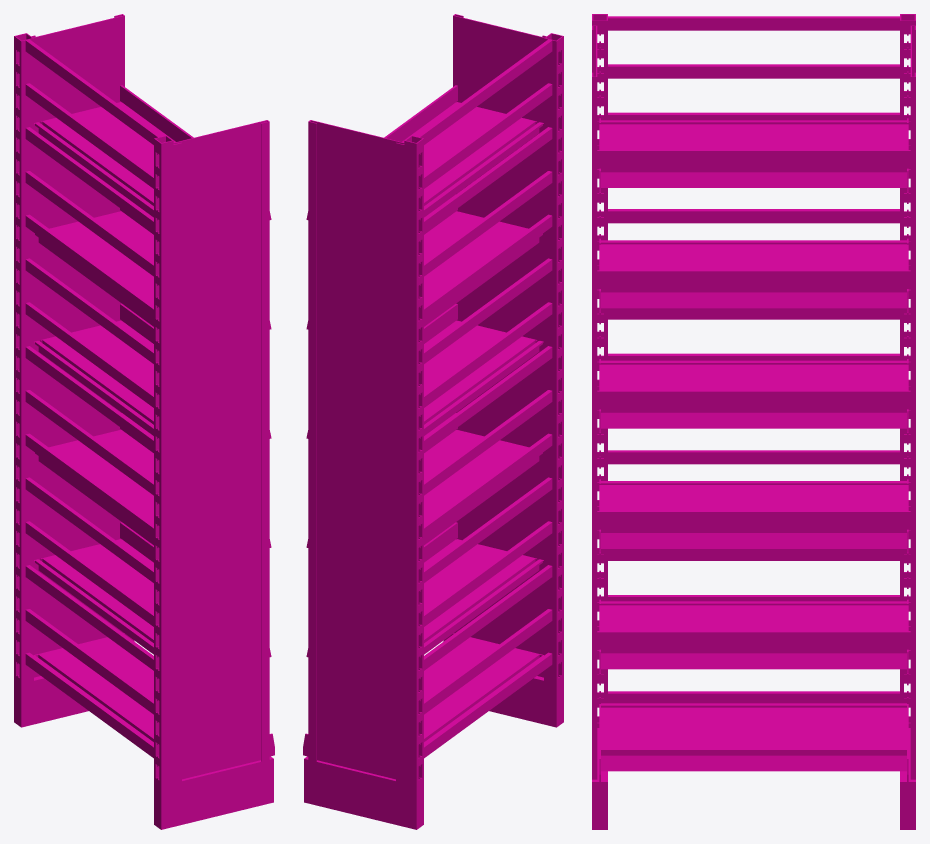
Rendered from TSL-0032-014 A01 LADDER RACK KIT 1610X580X230 LAD1610580.glb.
3 views of the same model, side by side, from view 1: azimuth 30°, elevation 25°; view 2: azimuth 150°, elevation 25°; view 3: azimuth 270°, elevation 25° (orthographic). The views are drawn at different scales.
Parts seen in each view (by area): view 1: 3DGeom-16 (×2), 3DGeom-3 (×6), 3DGeom-1 (×15), 3DGeom-13 (×2), 3DGeom-14 (×2), 3DGeom-25 (×3); view 2: 3DGeom-16 (×2), 3DGeom-3 (×6), 3DGeom-1 (×15), 3DGeom-13 (×2), 3DGeom-14 (×2), 3DGeom-25 (×3); view 3: 3DGeom-3 (×6), 3DGeom-25 (×5), 3DGeom-1 (×10), 3DGeom-16 (×2), 3DGeom-13 (×2), 3DGeom-14 (×2).
Boxes of the visible parts, x1,y1,x2,y2 form: 3DGeom-16 (×2): [31, 14, 269, 782]; 3DGeom-3 (×6): [34, 102, 175, 743]; 3DGeom-1 (×15): [25, 39, 161, 758]; 3DGeom-13 (×2): [14, 33, 173, 829]; 3DGeom-14 (×2): [34, 676, 273, 826]; 3DGeom-25 (×3): [120, 85, 193, 562]; 3DGeom-16 (×2): [308, 14, 546, 782]; 3DGeom-3 (×6): [402, 102, 543, 743]; 3DGeom-1 (×15): [416, 39, 552, 758]; 3DGeom-13 (×2): [404, 33, 563, 829]; 3DGeom-14 (×2): [304, 676, 543, 826]; 3DGeom-25 (×3): [384, 85, 457, 562]; 3DGeom-3 (×6): [601, 120, 906, 771]; 3DGeom-25 (×5): [597, 150, 910, 653]; 3DGeom-1 (×10): [608, 16, 899, 703]; 3DGeom-16 (×2): [592, 25, 915, 779]; 3DGeom-13 (×2): [592, 14, 915, 727]; 3DGeom-14 (×2): [592, 728, 915, 829].
Size of the model in its own units: 0.28 by 1.57 by 0.61.
